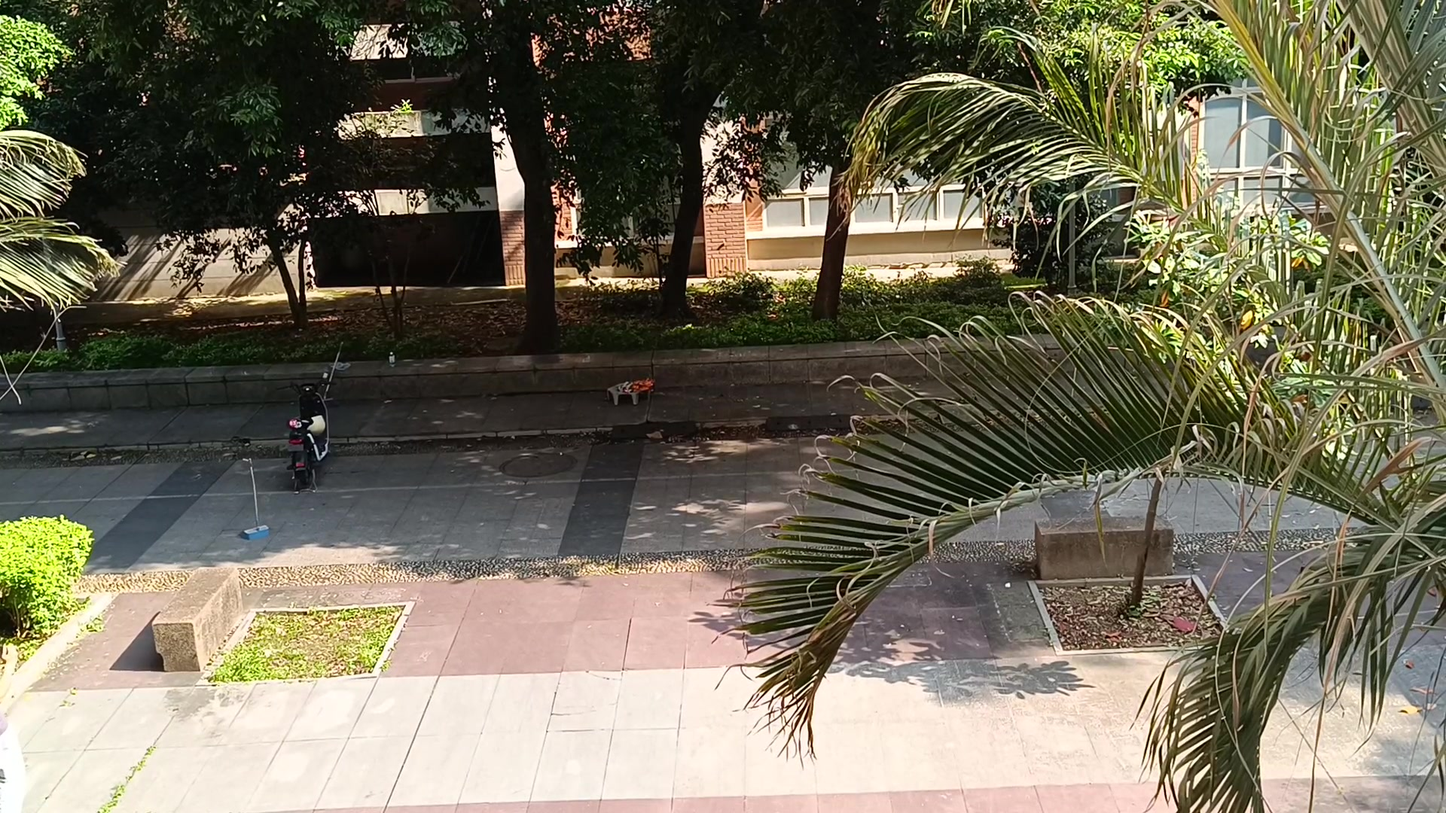fire: (627, 377, 653, 390)
